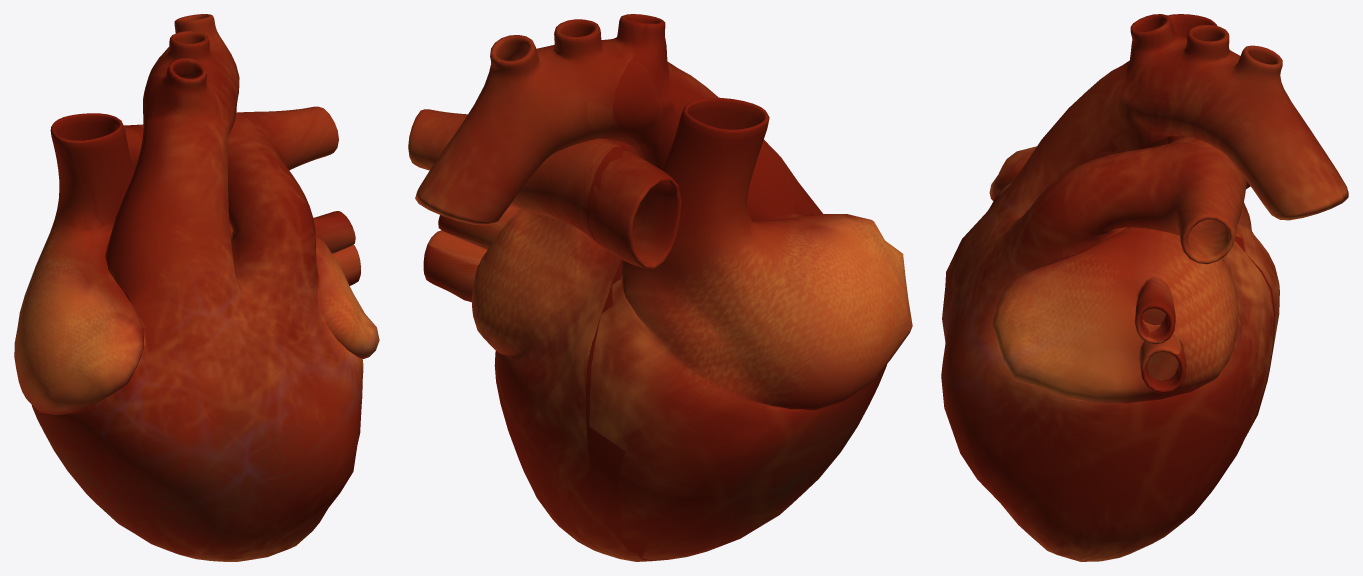
The model's file is heart.FBX.
3 views of the same model, side by side, from view 1: azimuth 30°, elevation 25°; view 2: azimuth 150°, elevation 25°; view 3: azimuth 270°, elevation 25° (orthographic). The views are drawn at different scales.
Parts seen in each view (by area): view 1: heart; view 2: heart; view 3: heart.
Boxes of the visible parts, x1,y1,x2,y2 form: heart: (14, 14, 379, 561); heart: (408, 14, 912, 561); heart: (941, 14, 1348, 561).
Size of the model in its own units: 12.52 by 16.31 by 11.5.
